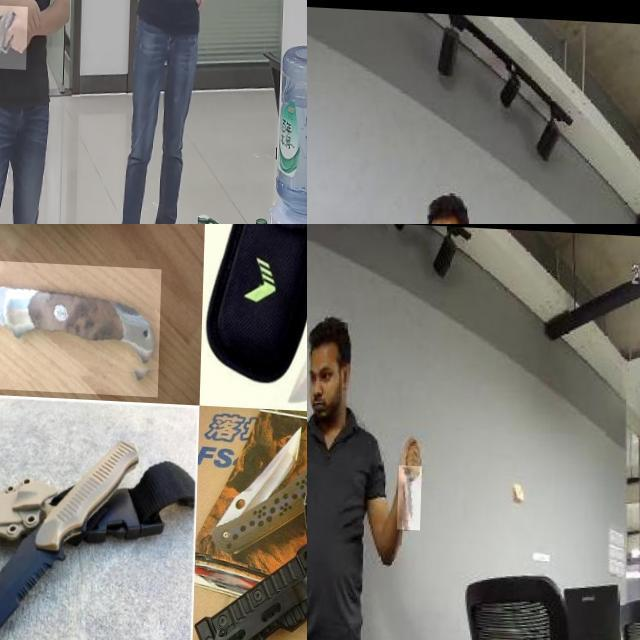-: (0, 255, 162, 394), (0, 506, 76, 640), (399, 463, 423, 528)
gun-knife-thesis - v11 Yolov5 augmented: (0, 2, 28, 67)
